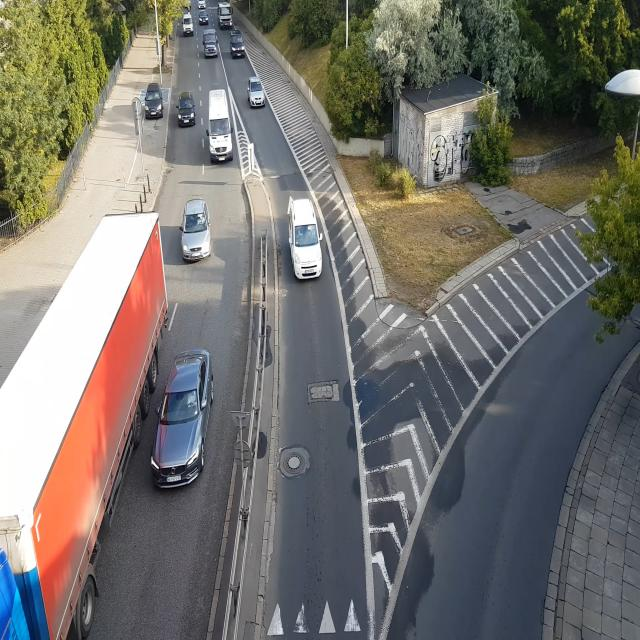car: (153, 348, 216, 492), (283, 194, 327, 288), (206, 90, 235, 163), (181, 198, 212, 262), (176, 88, 200, 135), (247, 76, 271, 112), (146, 83, 165, 121), (201, 31, 222, 59), (229, 32, 249, 60), (182, 12, 195, 38), (200, 9, 212, 25)
truck: (0, 213, 151, 639), (218, 0, 234, 28)
